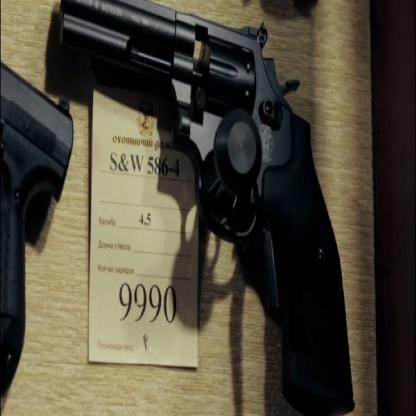Guns: (2, 0, 356, 415)
